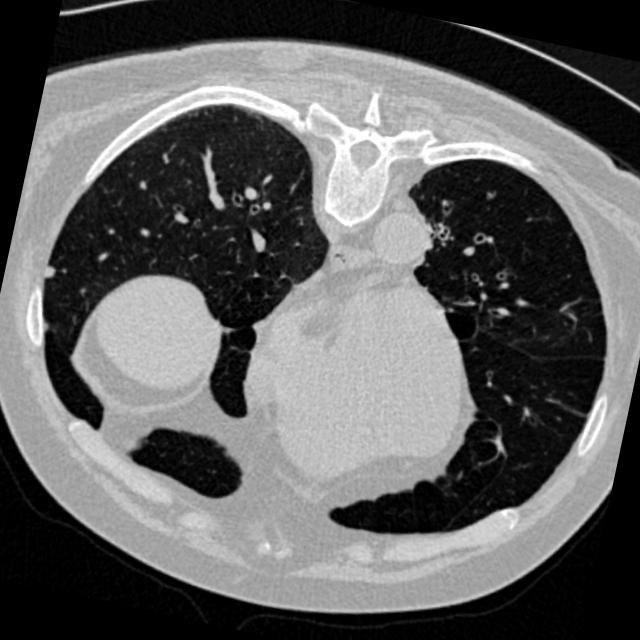nodule: (30, 255, 63, 288)
